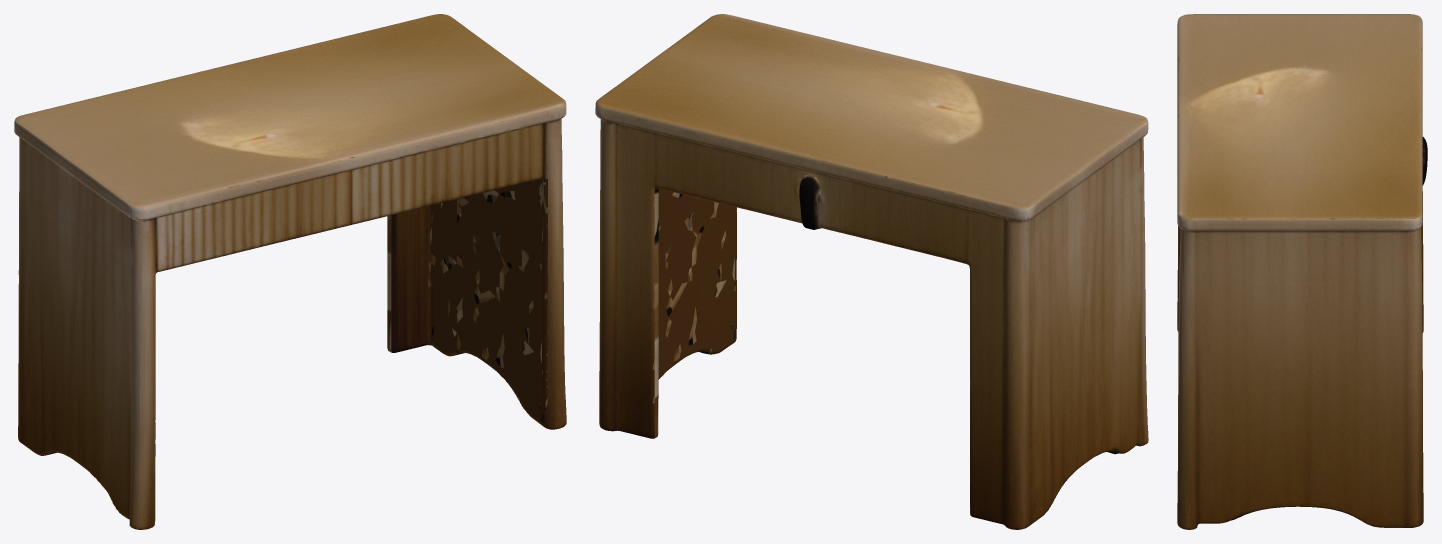
Rendered from desk__desk#1.glb.
The picture shows the model from 3 angles, left to right: view 1: azimuth 30°, elevation 25°; view 2: azimuth 150°, elevation 25°; view 3: azimuth 270°, elevation 25°; orthographic projection. The views are drawn at different scales.
Parts seen in each view (by area): view 1: tmpz01bdikl.ply; view 2: tmpz01bdikl.ply; view 3: tmpz01bdikl.ply.
Part boxes in pixels (x1,y1,x2,y2): tmpz01bdikl.ply: (14, 14, 566, 529); tmpz01bdikl.ply: (595, 14, 1148, 529); tmpz01bdikl.ply: (1177, 14, 1427, 529).
Size of the model in its own units: 1.99 by 1.41 by 1.02.
1 material, 1 textured.
